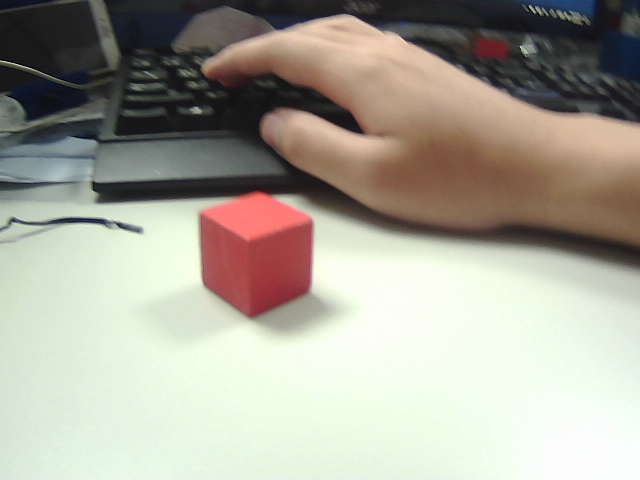redbox: (184, 183, 328, 321)
